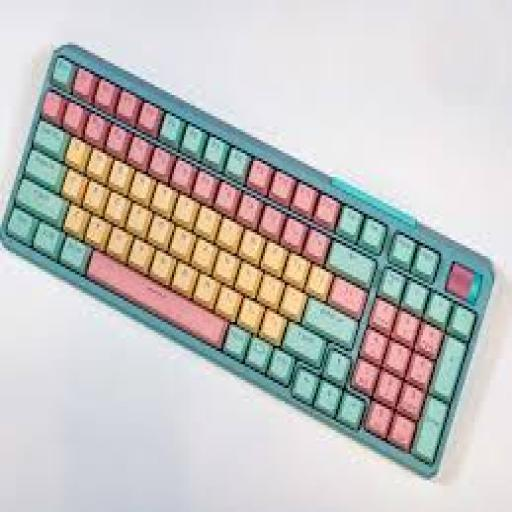keyboard: (0, 45, 496, 475)
